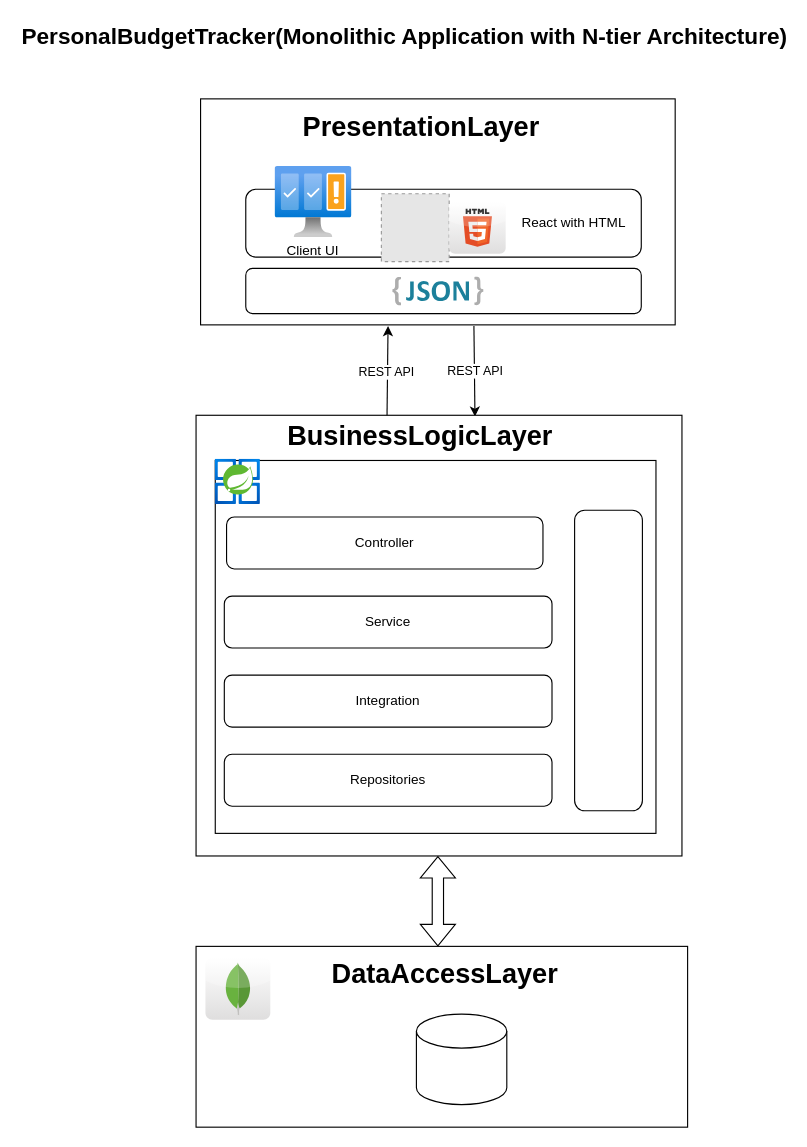
The diagram is 807 pixels wide and 1147 high, and some of its shapes have lost their labels. Grey dashed boxes stand in for pictures. Here are the shapes that lost their labels. From the top down, the box of each, then its label:
(573, 509, 642, 811): Model
(415, 1013, 507, 1105): Mongo DB
